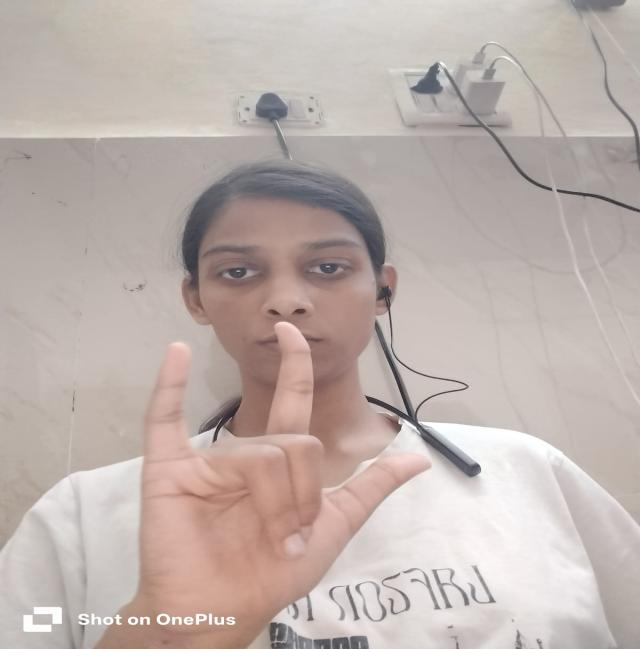I Love You: (131, 309, 439, 622)
